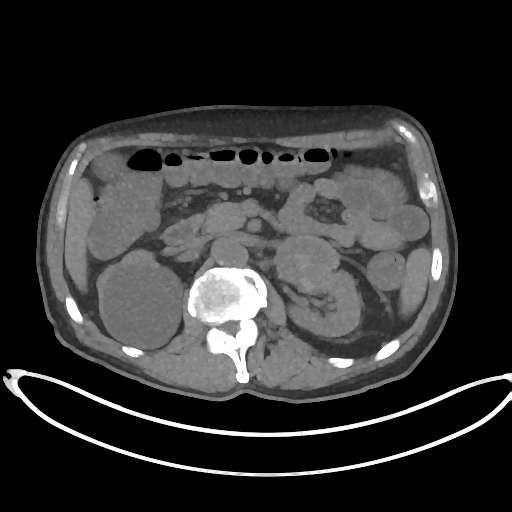Lesion: (270, 231, 342, 287)
